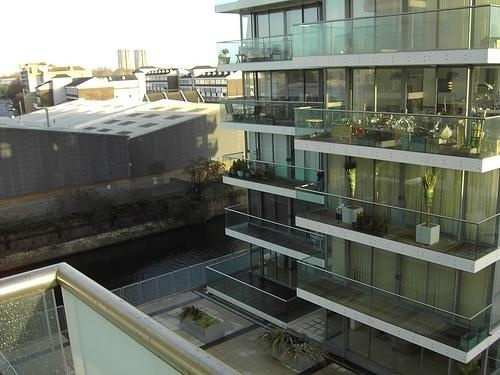pottedplant: (418, 173, 442, 245), (342, 163, 365, 226), (220, 50, 232, 67), (238, 162, 245, 177), (232, 160, 238, 177), (246, 164, 252, 179)
